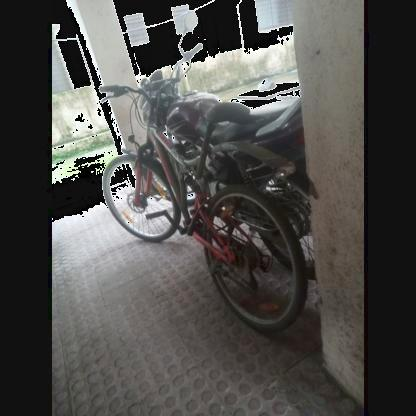Bicycle: (110, 78, 309, 337)
